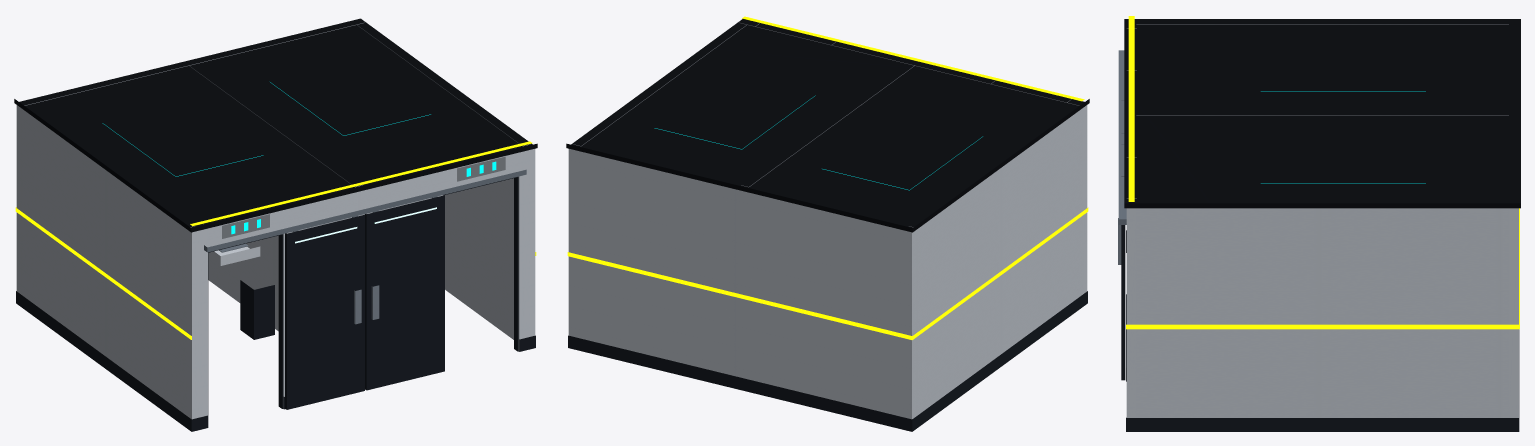
The picture shows the model from 3 angles, left to right: view 1: azimuth 30°, elevation 25°; view 2: azimuth 150°, elevation 25°; view 3: azimuth 270°, elevation 25°; orthographic projection. The views are drawn at different scales.
Visible parts, largest first — view 1: Roof_Slab, Shell_Walls, Leaf_A_Panel, Leaf_B_Panel, Base_Band, Door_Jambs, Door_Track, Bin, Sign_Plates, Roof_Edge_Line, Court_Line_Stripe, Lavatory; view 2: Shell_Walls, Roof_Slab, Base_Band, Court_Line_Stripe, Roof_Edge_Line; view 3: Shell_Walls, Roof_Slab, Base_Band, Court_Line_Stripe, Roof_Edge_Line, Door_Track, Leaf_B_Panel.
Part boxes in pixels (x1=…): Roof_Slab: x1=14, y1=18, x2=537, y2=232; Shell_Walls: x1=16, y1=22, x2=535, y2=419; Leaf_A_Panel: x1=285, y1=214, x2=364, y2=409; Leaf_B_Panel: x1=365, y1=195, x2=444, y2=390; Base_Band: x1=16, y1=291, x2=535, y2=431; Door_Jambs: x1=208, y1=177, x2=518, y2=414; Door_Track: x1=204, y1=169, x2=526, y2=252; Bin: x1=240, y1=280, x2=274, y2=339; Sign_Plates: x1=222, y1=156, x2=505, y2=238; Roof_Edge_Line: x1=190, y1=141, x2=532, y2=226; Court_Line_Stripe: x1=15, y1=207, x2=536, y2=339; Lavatory: x1=208, y1=246, x2=260, y2=265; Shell_Walls: x1=568, y1=22, x2=1087, y2=419; Roof_Slab: x1=566, y1=19, x2=1089, y2=232; Base_Band: x1=568, y1=291, x2=1087, y2=431; Court_Line_Stripe: x1=567, y1=207, x2=1088, y2=339; Roof_Edge_Line: x1=742, y1=16, x2=1084, y2=101; Shell_Walls: x1=1126, y1=24, x2=1518, y2=417; Roof_Slab: x1=1124, y1=19, x2=1520, y2=208; Base_Band: x1=1126, y1=230, x2=1519, y2=431; Court_Line_Stripe: x1=1126, y1=208, x2=1519, y2=329; Roof_Edge_Line: x1=1128, y1=16, x2=1134, y2=201; Door_Track: x1=1118, y1=50, x2=1126, y2=224; Leaf_B_Panel: x1=1121, y1=225, x2=1125, y2=380.
Size of what is drawn, in the model's own units: 4.34 by 2.45 by 3.9.
Materials: 12 (5 with a texture image).
